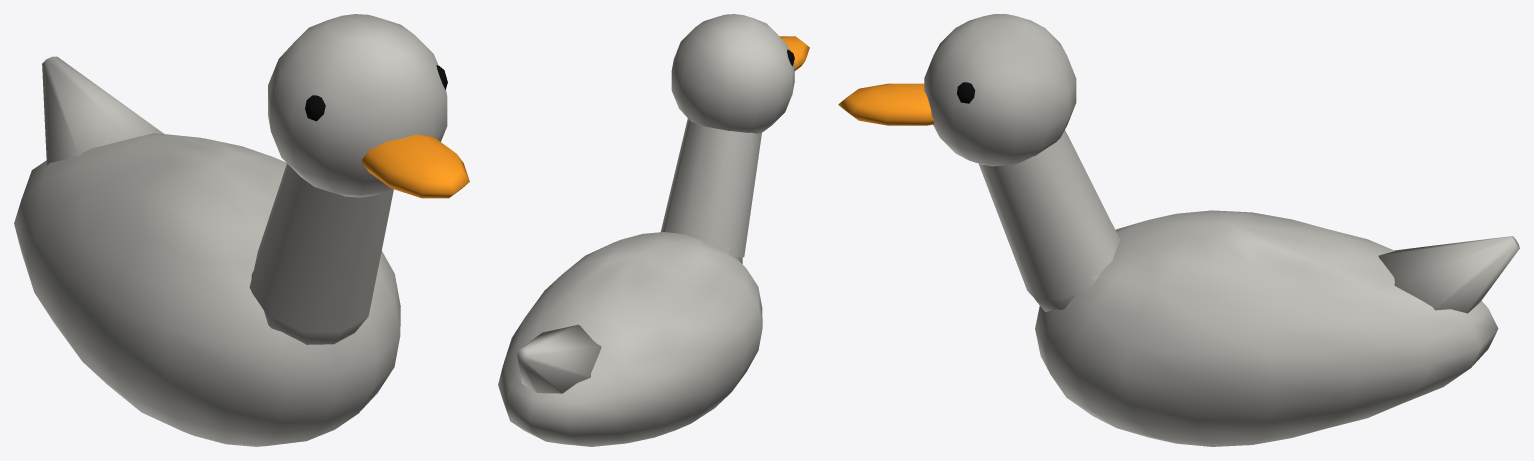
File: Duck.glb
3 renders of one model, left to right at view 1: azimuth 30°, elevation 25°; view 2: azimuth 150°, elevation 25°; view 3: azimuth 270°, elevation 25°, orthographic. The views are drawn at different scales.
Parts seen in each view (by area): view 1: DuckBody, Bill, DuckEyes; view 2: DuckBody, Bill; view 3: DuckBody, Bill.
Boxes of the visible parts, x1,y1,x2,y2 form: DuckBody: (14,14,447,446); Bill: (361,134,469,198); DuckEyes: (305,65,447,121); DuckBody: (498,14,794,446); Bill: (779,36,809,70); DuckBody: (924,14,1519,446); Bill: (838,83,934,125).
Bounding box in the file's own units: 0.1674 × 0.295 × 0.4414.
